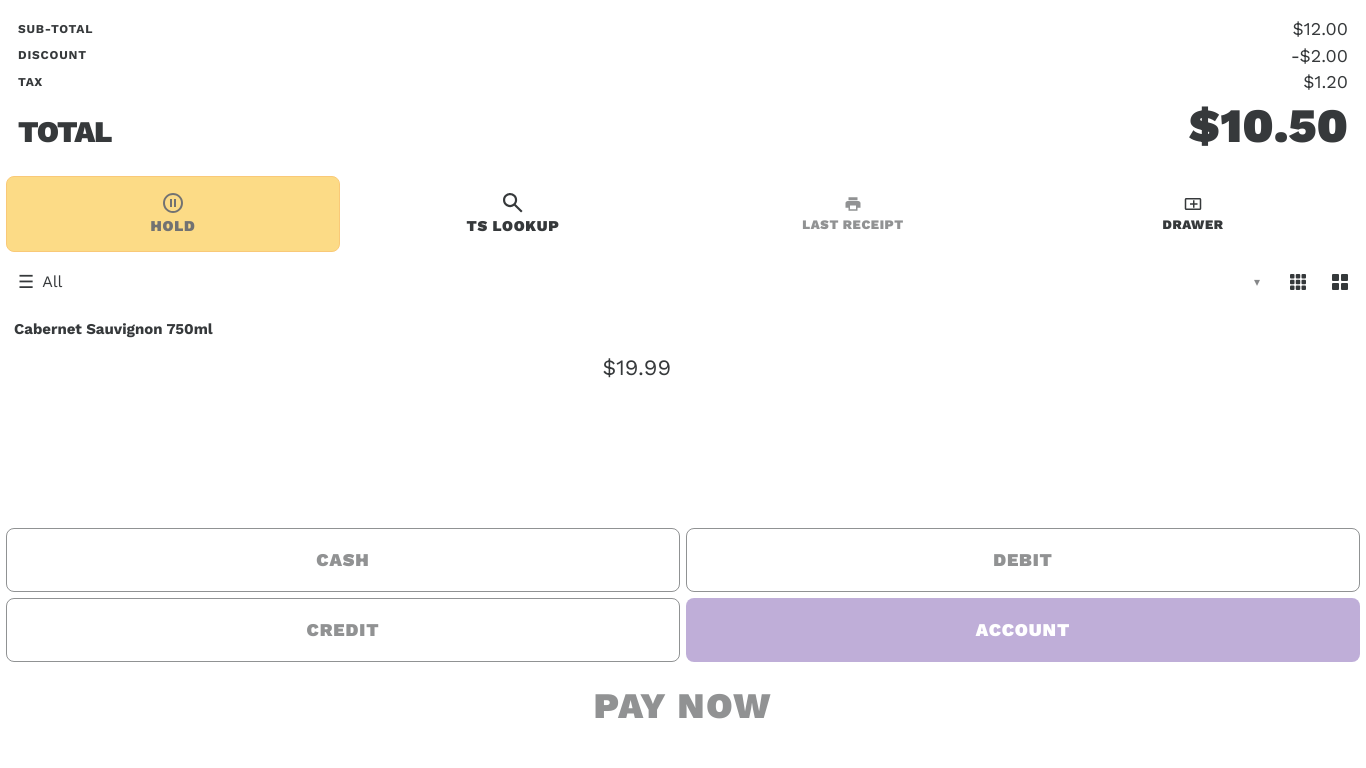
Test: ActionPanel › closes dropdown on outside click
# Open menu
Click the button "☰ All ▾": click(26, 281) [6,260,1272,304]
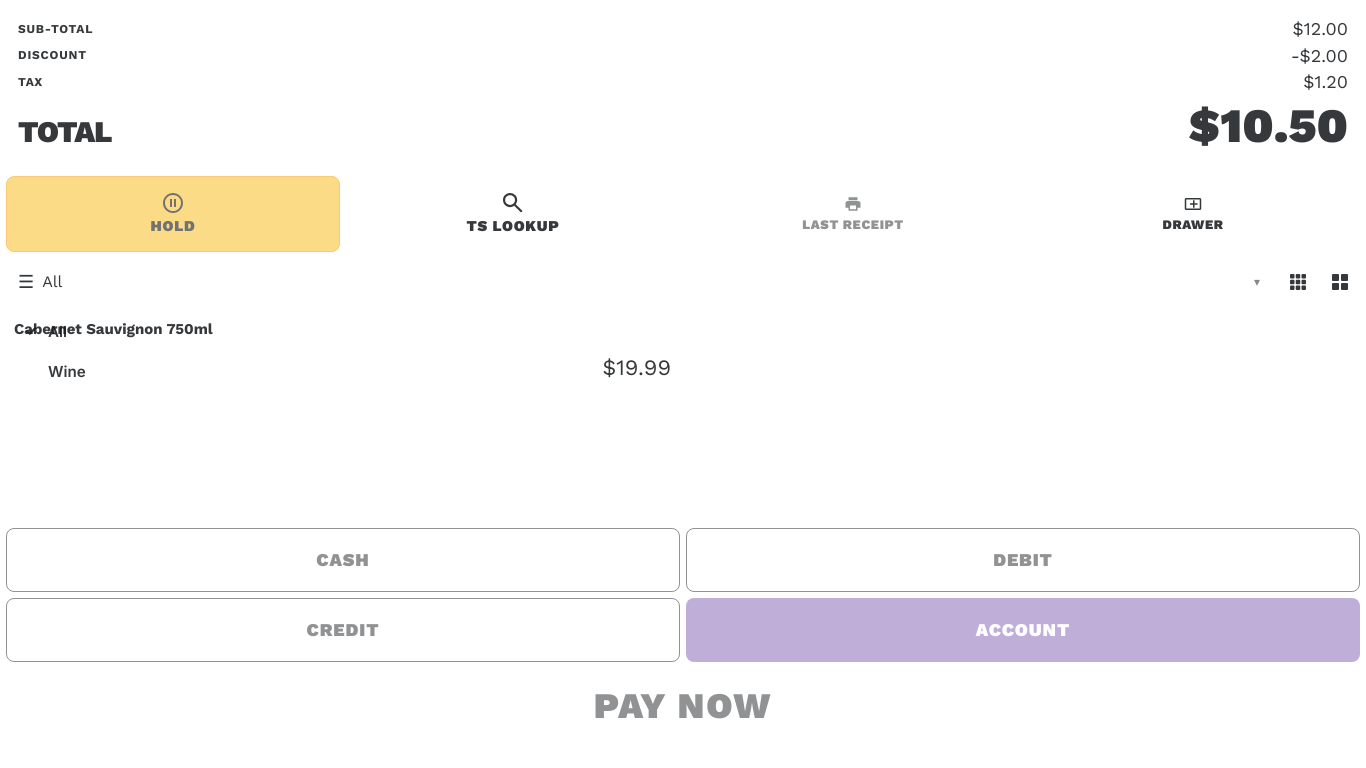
Now the list is shown, box [6,308,1272,396]
# Click outside the dropdown
Press the mouse on the element that starts with "Sub-Total": (683, 384) [0,0,1365,767]
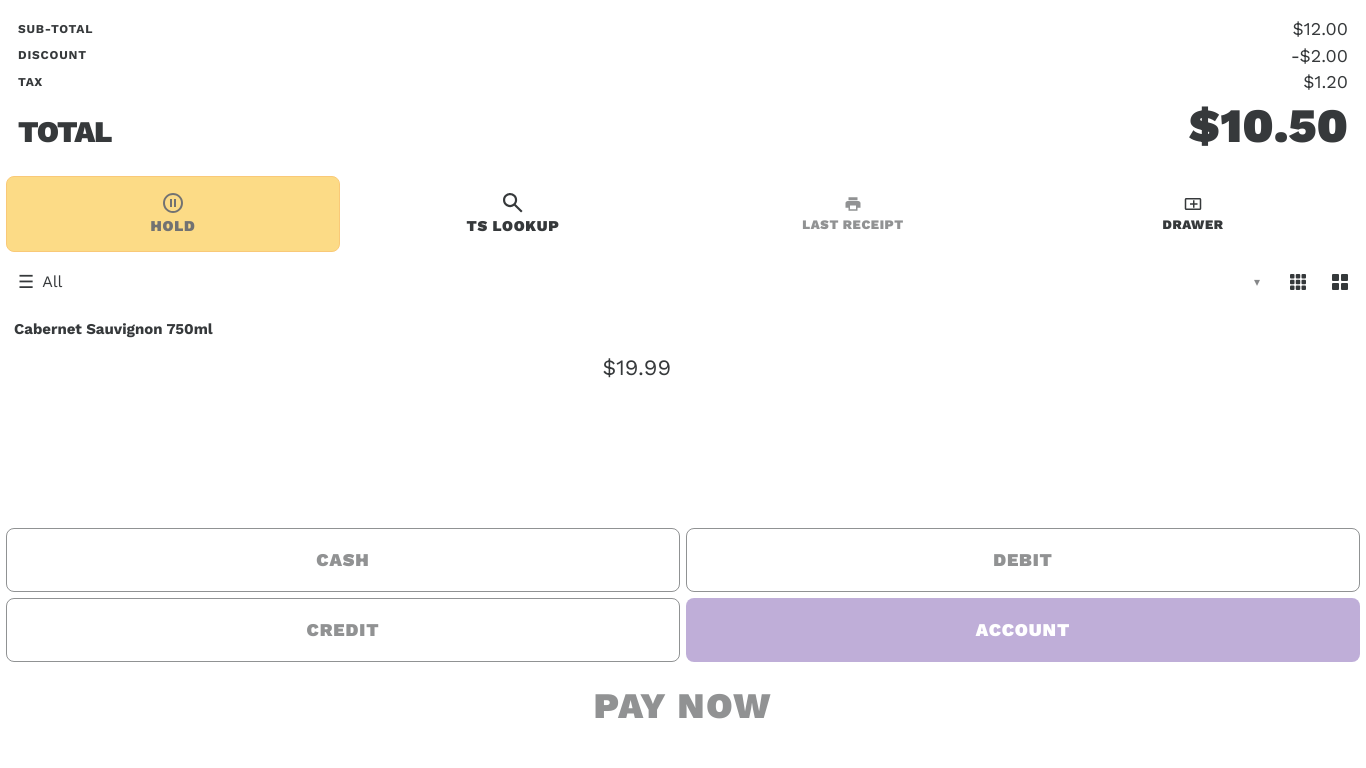
Now the list is gone
